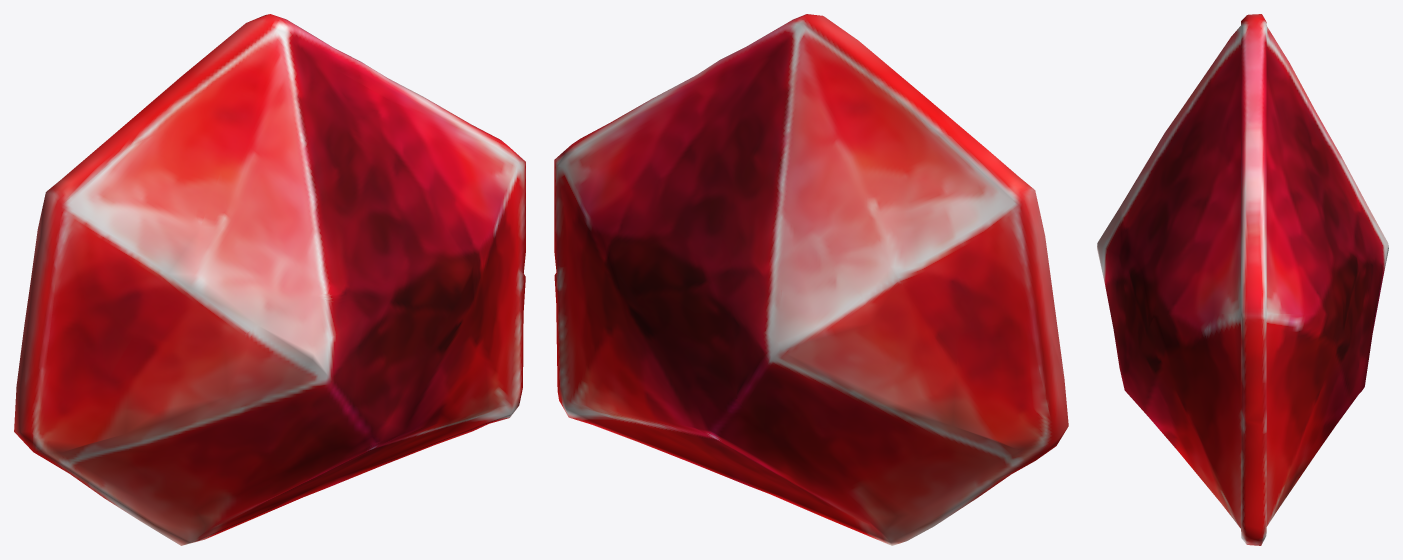
Rendered from jewal 3.gltf.
3 views of the same model, side by side, from view 1: azimuth 30°, elevation 25°; view 2: azimuth 150°, elevation 25°; view 3: azimuth 270°, elevation 25° (orthographic). The views are drawn at different scales.
Parts seen in each view (by area): view 1: jewal 3; view 2: jewal 3; view 3: jewal 3.
Boxes of the visible parts, <box> form: jewal 3: <box>14,14,525,545</box>; jewal 3: <box>554,14,1068,545</box>; jewal 3: <box>1097,14,1388,545</box>.
Bounding box in the file's own units: 0.4711 × 0.4517 × 0.2558.
